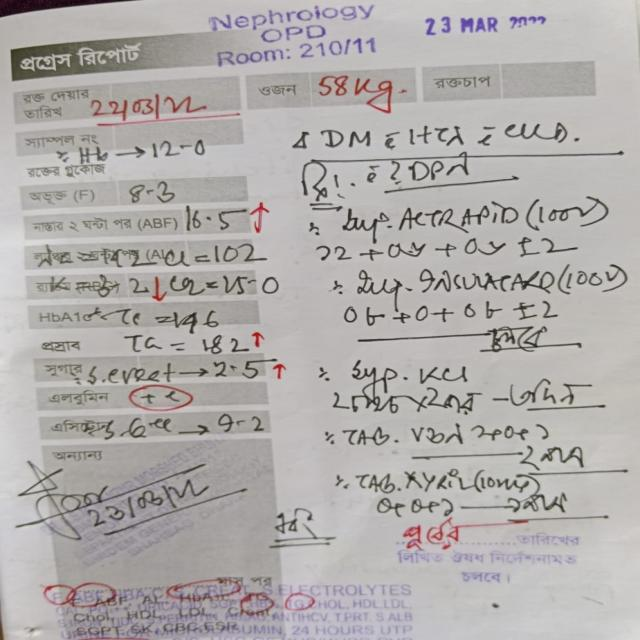Actrapid: (389, 202, 524, 238)
Insulatard: (414, 261, 565, 299)
KCL: (411, 359, 480, 392)
Xyril: (398, 465, 476, 496)
